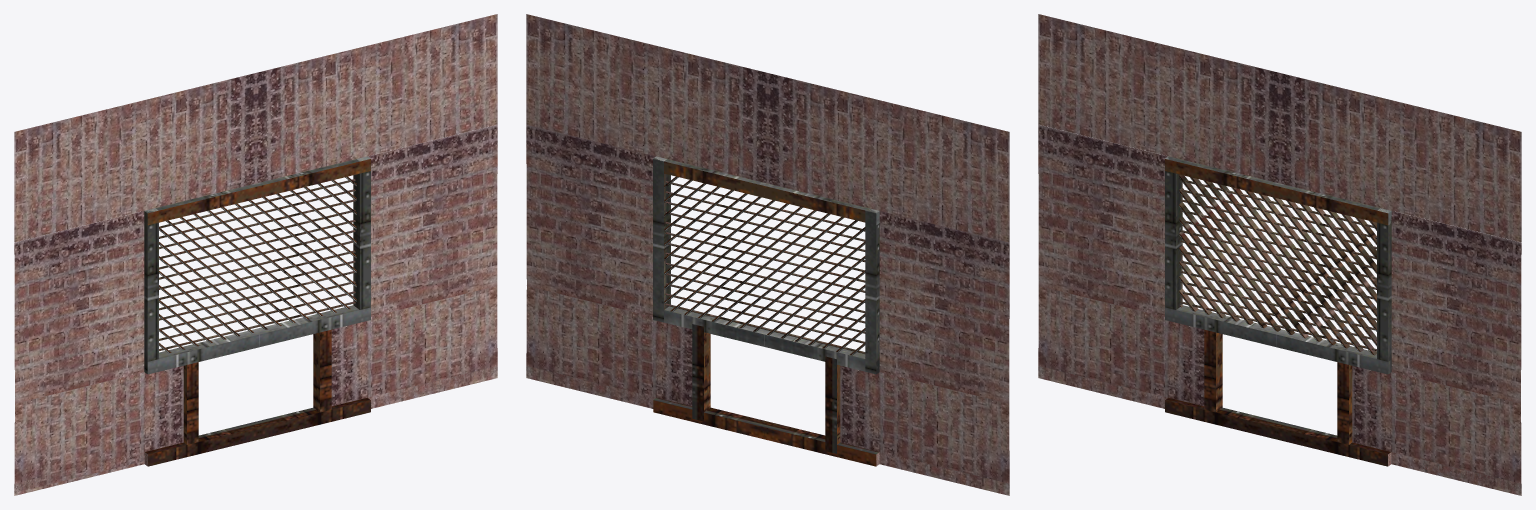
Rendered from MeshWall.glb.
3 views of the same model, side by side, from view 1: azimuth 30°, elevation 25°; view 2: azimuth 150°, elevation 25°; view 3: azimuth 330°, elevation 25° (orthographic).
Visible parts, largest first — view 1: Cube.005, Cube.001; view 2: Cube.005, Cube.001; view 3: Cube.005, Cube.001.
Boxes of the visible parts, left/top/right/bottom form: Cube.005: left=14, top=14, right=497, bottom=495; Cube.001: left=159, top=176, right=356, bottom=353; Cube.005: left=526, top=14, right=1009, bottom=495; Cube.001: left=664, top=176, right=865, bottom=355; Cube.005: left=1038, top=14, right=1521, bottom=495; Cube.001: left=1179, top=174, right=1376, bottom=355.
Size of the model in its own units: 3.69 by 2.65 by 0.0887.
2 materials, 2 textured.
